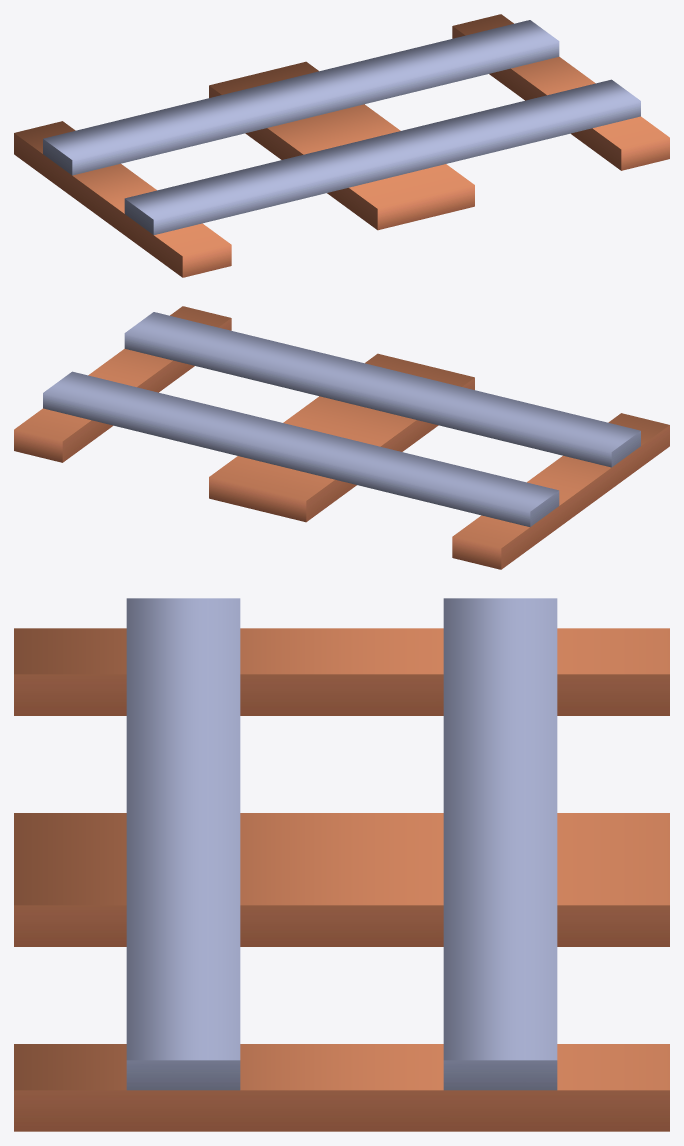
File: kenney-holiday-trainset-rail-detailed-straight.glb
3 renders of one model, top to bottom at view 1: azimuth 30°, elevation 25°; view 2: azimuth 150°, elevation 25°; view 3: azimuth 270°, elevation 25°, orthographic. The views are drawn at different scales.
Visible parts, largest first — view 1: trainset-rail-detailed-straight; view 2: trainset-rail-detailed-straight; view 3: trainset-rail-detailed-straight.
Part boxes in pixels (x1=…): trainset-rail-detailed-straight: x1=14, y1=14, x2=669, y2=277; trainset-rail-detailed-straight: x1=14, y1=306, x2=669, y2=569; trainset-rail-detailed-straight: x1=14, y1=598, x2=669, y2=1131.
Size of the model in its own units: 0.5 by 0.0361 by 0.3.
Materials: 1 (1 with a texture image).
